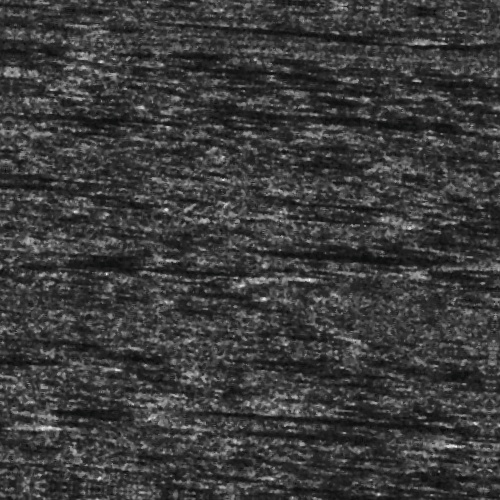object: (437, 239, 500, 256), (404, 422, 497, 433), (350, 23, 443, 30), (464, 405, 500, 416), (230, 270, 303, 275), (473, 109, 494, 114), (28, 436, 49, 441)
shadow: (181, 405, 500, 416), (290, 239, 483, 256), (306, 422, 450, 433), (183, 23, 396, 30), (226, 109, 483, 114), (60, 270, 266, 275), (394, 62, 500, 71), (0, 436, 39, 441)
